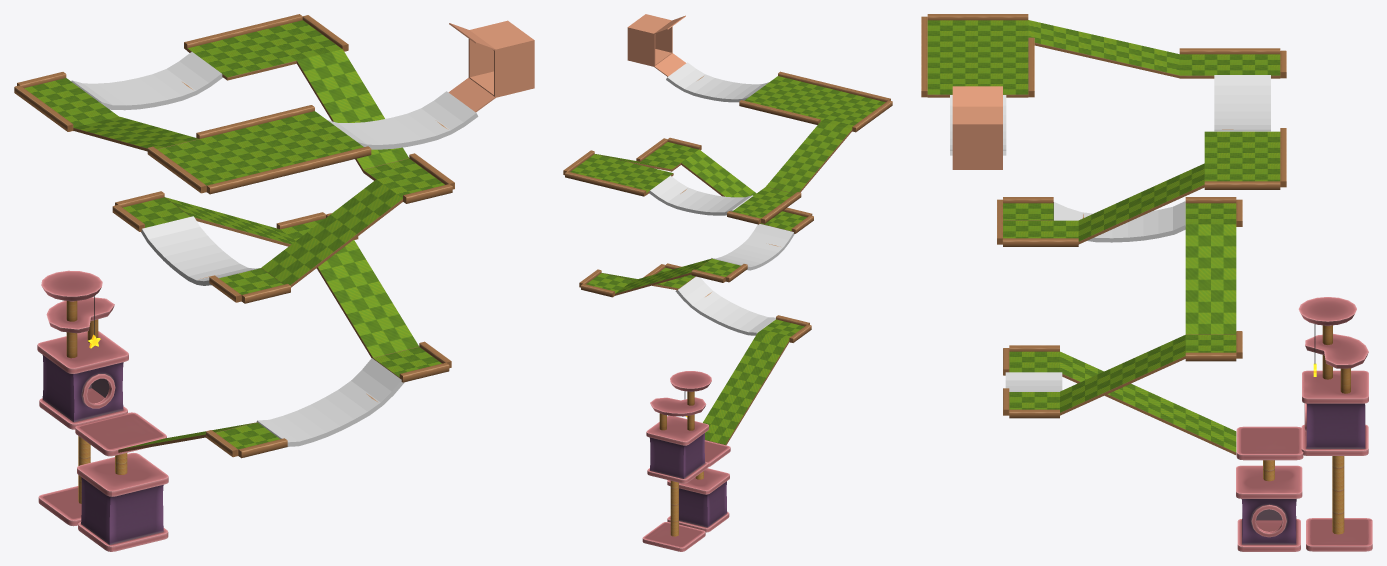
Rendered from LV_4_Greybox.gltf.
The picture shows the model from 3 angles, left to right: view 1: azimuth 30°, elevation 25°; view 2: azimuth 150°, elevation 25°; view 3: azimuth 270°, elevation 25°; orthographic projection. The views are drawn at different scales.
Visible parts, largest first — view 1: SM_Goal_Base.004, SM_Cat_House_Base.010, SM_Cat_House_Ceiling-convcol.029, SM_Cardboard_Right-convcol.002, SM_Cat_House_Ceiling-convcol.031, SM_Cardboard_Roof.002, SM_Cardboard_Ramp-convcol.002, SM_Cardboard_Left-convcol.002, Bridge-convcolonly.028, Bridge-convcolonly.029, Bridge-convcolonly.001, Bridge-convcolonly.010 (+9 smaller); view 2: SM_Goal_Base.004, SM_Cat_House_Base.010, SM_Cat_House_Ceiling-convcol.031, SM_Cardboard_Left-convcol.002, SM_Cardboard_Roof.002, SM_Cat_House_Ceiling-convcol.029; view 3: SM_Goal_Base.004, SM_Cat_House_Base.010, SM_Cardboard-Back_convcol.002, SM_Cat_House_Ceiling-convcol.029, SM_Cat_House_Ceiling-convcol.031, SM_Cardboard_Top_Flap.002, SM_Cardboard_Roof.002, Bridge-convcolonly.018, SM_Ramp_Higher_convcol.029, SM_Ramp_Higher_convcol.030, SM_Ramp_Higher_convcol.023, SM_Ramp_Higher_convcol.024 (+7 smaller).
Part boxes in pixels (box(x1,y1,x2,y2)): SM_Goal_Base.004: box(37, 270, 128, 429); SM_Cat_House_Base.010: box(77, 453, 168, 551); SM_Cat_House_Ceiling-convcol.029: box(75, 412, 166, 456); SM_Cardboard_Right-convcol.002: box(494, 40, 534, 97); SM_Cat_House_Ceiling-convcol.031: box(38, 486, 81, 526); SM_Cardboard_Roof.002: box(470, 20, 533, 50); SM_Cardboard_Ramp-convcol.002: box(448, 78, 495, 112); SM_Cardboard_Left-convcol.002: box(468, 39, 493, 77); Bridge-convcolonly.028: box(141, 216, 199, 242); Bridge-convcolonly.029: box(362, 358, 404, 394); Bridge-convcolonly.001: box(434, 91, 478, 126); Bridge-convcolonly.010: box(179, 52, 222, 86); SM_Goal_Base.004: box(646, 371, 711, 483); SM_Cat_House_Base.010: box(667, 468, 729, 532); SM_Cat_House_Ceiling-convcol.031: box(642, 522, 705, 551); SM_Cardboard_Left-convcol.002: box(627, 27, 655, 66); SM_Cardboard_Roof.002: box(628, 14, 671, 34); SM_Cat_House_Ceiling-convcol.029: box(704, 440, 730, 467); SM_Goal_Base.004: box(1298, 297, 1368, 455); SM_Cat_House_Base.010: box(1236, 465, 1302, 551); SM_Cardboard-Back_convcol.002: box(952, 124, 1002, 169); SM_Cat_House_Ceiling-convcol.029: box(1236, 426, 1303, 460); SM_Cat_House_Ceiling-convcol.031: box(1306, 518, 1372, 551); SM_Cardboard_Top_Flap.002: box(952, 86, 1002, 106); SM_Cardboard_Roof.002: box(952, 106, 1002, 124); Bridge-convcolonly.018: box(1214, 75, 1270, 85); SM_Ramp_Higher_convcol.029: box(1211, 290, 1236, 312); SM_Ramp_Higher_convcol.030: box(1185, 290, 1210, 312); SM_Ramp_Higher_convcol.023: box(1211, 224, 1236, 246); SM_Ramp_Higher_convcol.024: box(1185, 224, 1210, 246).
Bounding box in the file's own units: 30.08 × 47.09 × 35.84.
4 materials, 3 textured.
